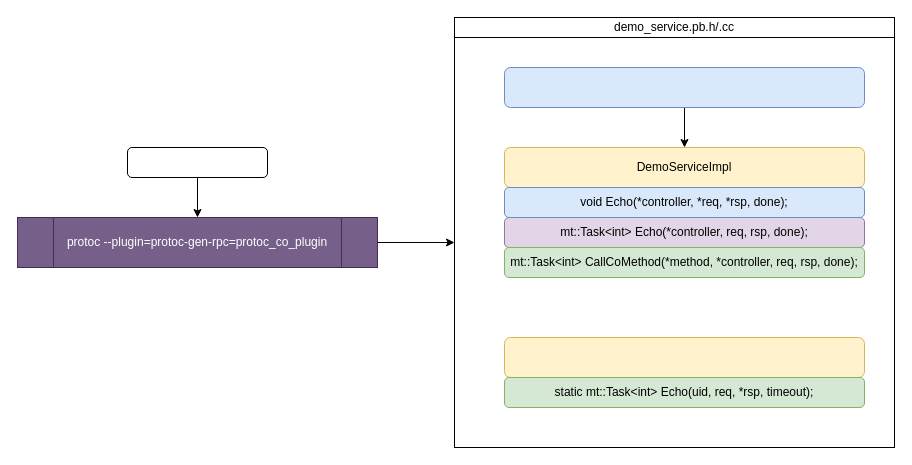
This 912x465 diagram has some shape labels left out. The shapes that lost their labels are listed below. From the top down, each one's centre as x and y in pixels, then its label:
At point 684,87: "DemoService".
At point 197,162: "demo_service.proto".
At point 684,357: "DemoServiceStub".
